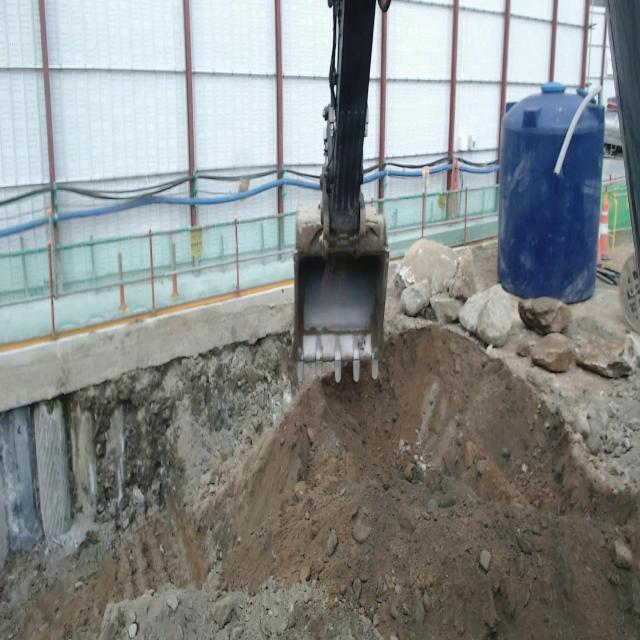red-sand: (0, 325, 640, 639)
rocks: (393, 238, 522, 347)
stone: (396, 238, 485, 299), (567, 311, 640, 378), (459, 284, 513, 346), (518, 297, 571, 334), (530, 333, 575, 372), (400, 279, 430, 316), (431, 293, 463, 323)
white-sand: (99, 578, 380, 639)
